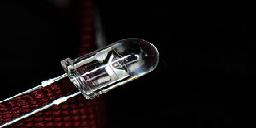LED: (49, 36, 162, 107)
